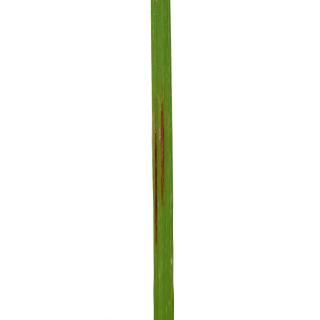Bercak-Cokelat-Sempit: (150, 94, 160, 254), (160, 93, 166, 207)
